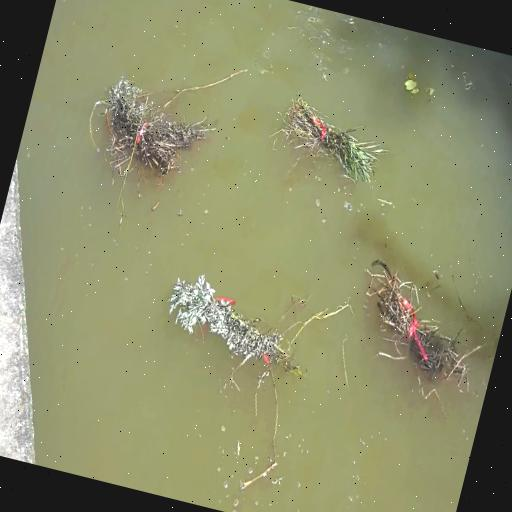twig: (346, 248, 490, 404), (76, 60, 212, 208), (154, 274, 322, 382), (272, 92, 400, 188), (392, 66, 438, 116)
